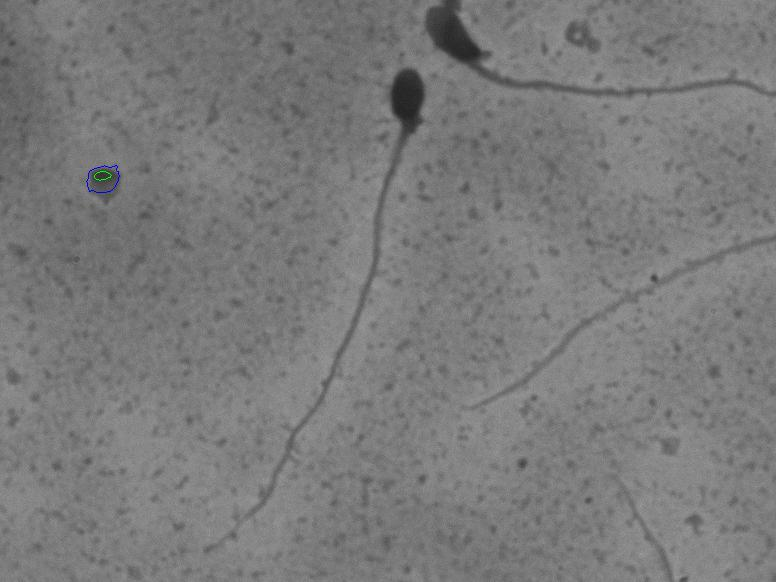Abnormal: (418, 0, 745, 131)
Normal: (188, 30, 474, 565)
